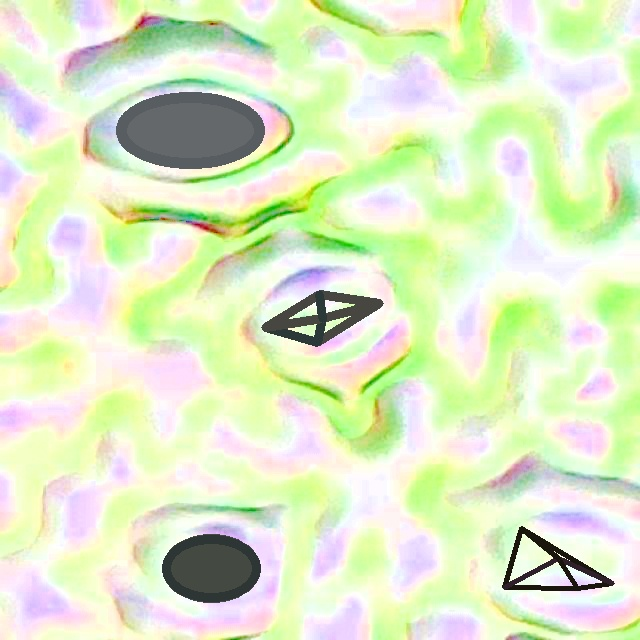close: (503, 526, 614, 590), (261, 290, 383, 346), (162, 534, 260, 603)
open: (115, 92, 265, 168)
